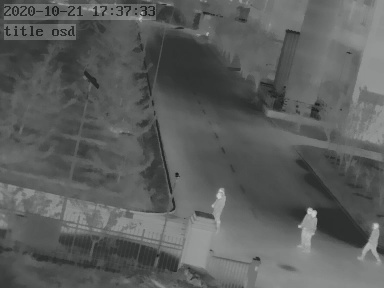person: (298, 204, 318, 252), (362, 218, 381, 261), (211, 186, 226, 228)
